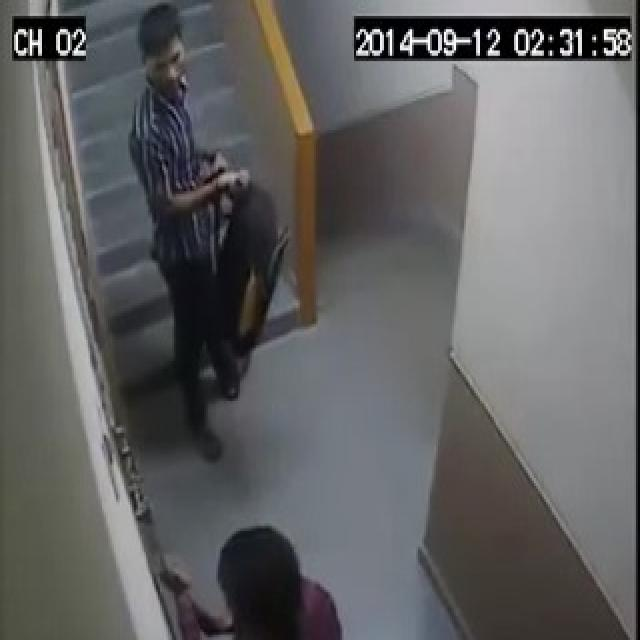thief: (107, 3, 292, 453), (159, 505, 354, 640)
